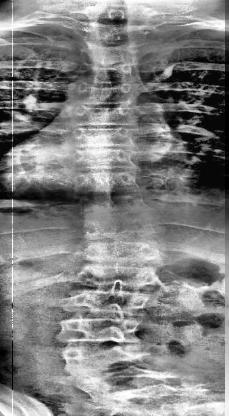Vertebrae: (62, 340, 150, 374), (77, 233, 161, 267), (62, 286, 156, 316), (55, 315, 147, 345), (75, 258, 163, 288), (77, 192, 153, 224), (77, 212, 155, 242), (70, 168, 144, 198), (68, 97, 138, 128), (69, 144, 141, 173), (70, 122, 138, 152), (81, 17, 147, 47), (72, 78, 136, 108), (80, 41, 144, 68), (77, 58, 135, 86)
